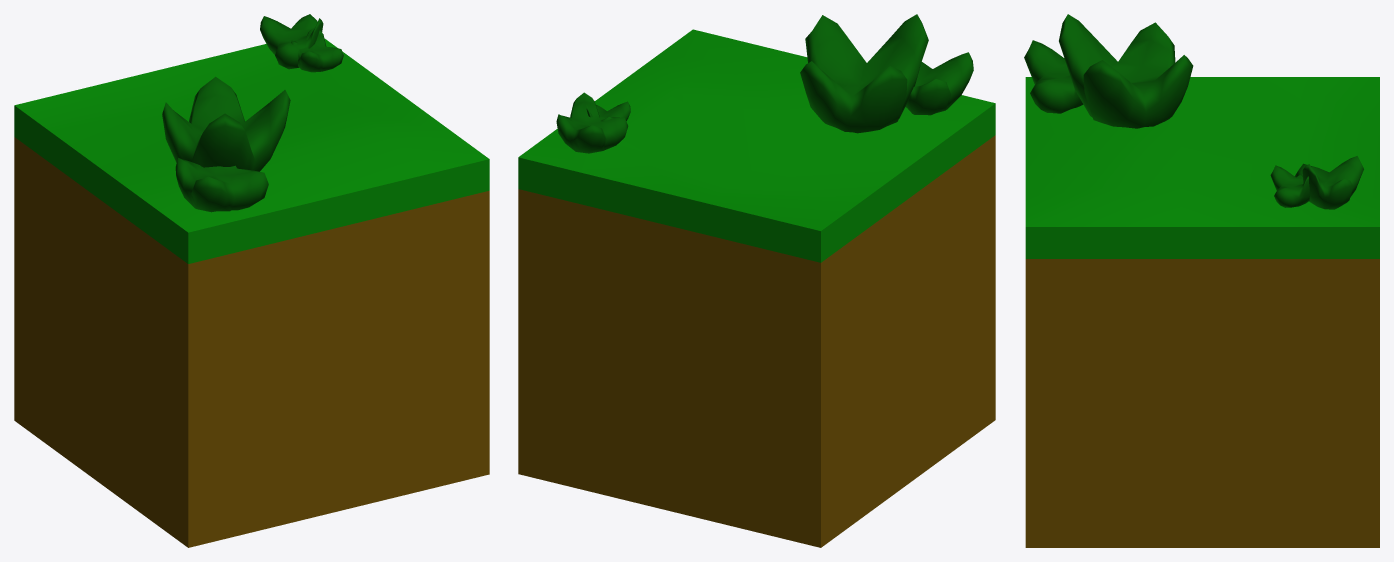
File: Grass.fbx
3 renders of one model, left to right at view 1: azimuth 30°, elevation 25°; view 2: azimuth 150°, elevation 25°; view 3: azimuth 270°, elevation 25°, orthographic.
Visible parts, largest first — view 1: polySurface41; view 2: polySurface41; view 3: polySurface41.
Part boxes in pixels (x1,y1,x2,y2): polySurface41: [14, 14, 489, 547]; polySurface41: [518, 14, 995, 547]; polySurface41: [1024, 14, 1379, 547].
Bounding box in the file's own units: 1 × 1.29 × 1.
